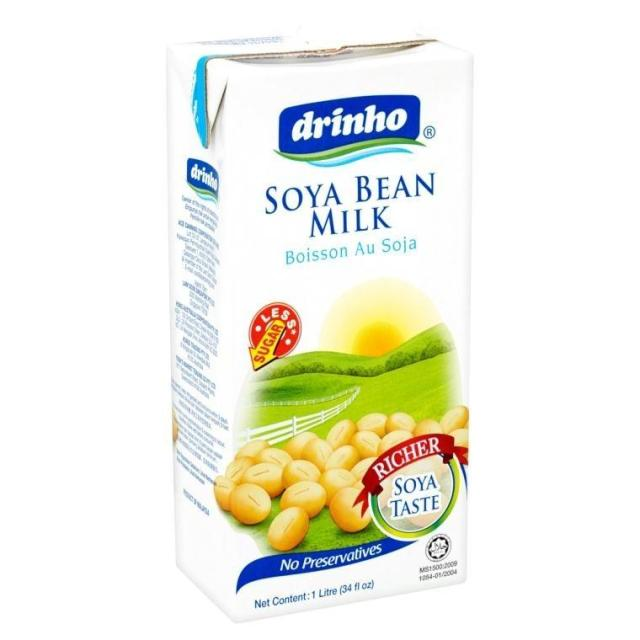drink carton: (166, 19, 472, 618)
